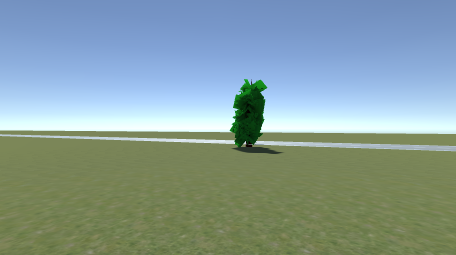tree: (230, 78, 267, 150)
